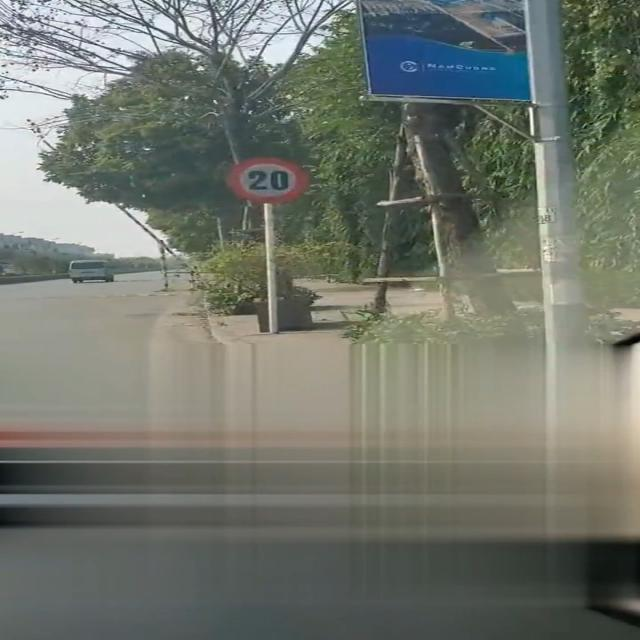127-toc-do-toi-da-20: (228, 157, 310, 203)
